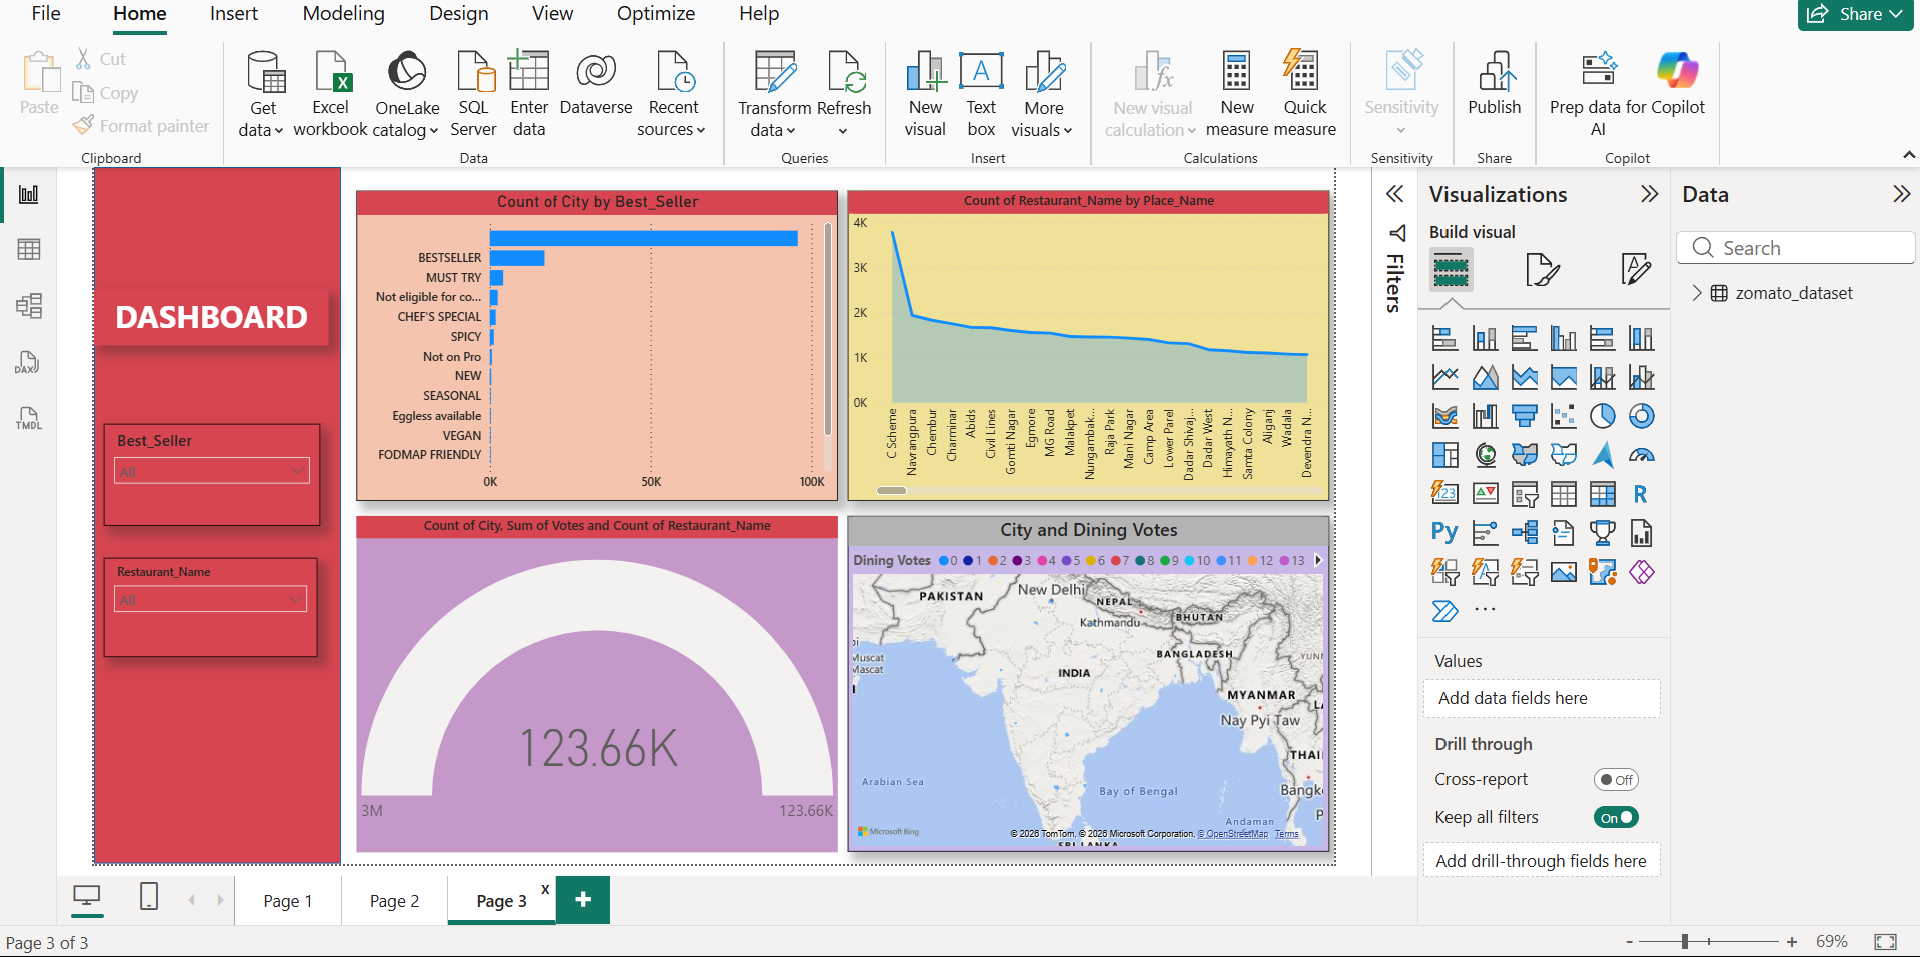

The dashboard page shown, as its layout file describes it:
{"tool":"powerbi","page":{"name":"Page 3","canvas":[1280,720],"ordinal":2},"visuals":[{"type":"shape","box":[0,0,255.2,719.3],"z":0},{"type":"textbox","box":[0,126.9,242.2,57.7],"z":1},{"type":"barChart","fields":{"Category":["zomato_dataset.Best_Seller"],"Y":["CountNonNull(zomato_dataset.City)"]},"box":[271,24.5,497.3,320],"z":2},{"type":"gauge","fields":{"Y":["CountNonNull(zomato_dataset.City)"],"MaxValue":["CountNonNull(zomato_dataset.Restaurant_Name)"],"MinValue":["Sum(zomato_dataset.Votes)"]},"box":[271,360.4,497.3,347.4],"z":3},{"type":"slicer","fields":{"Values":["zomato_dataset.Best_Seller"]},"box":[10.1,265.3,223.4,105.2],"z":4},{"type":"slicer","fields":{"Values":["zomato_dataset.Restaurant_Name"]},"box":[10.1,403.6,220.6,102.4],"z":5},{"type":"stackedAreaChart","fields":{"Category":["zomato_dataset.Place_Name"],"Y":["CountNonNull(zomato_dataset.Restaurant_Name)"]},"box":[778,25,497,320],"z":6},{"type":"filledMap","fields":{"Category":["zomato_dataset.City"],"Series":["zomato_dataset.Dining Votes"]},"box":[778,360,497,347],"z":7}]}

Visuals, with their boxes on the page's 1280x720 design canvas (x1, y1, x2, y2). These are canvas units, not pixel positions in the 1920x957 screenshot, which may show the page scaled, cropped or inside an application window:
shape: <bbox>0, 0, 255, 719</bbox>
textbox: <bbox>0, 127, 242, 185</bbox>
barChart - zomato_dataset.Best_Seller x CountNonNull(zomato_dataset.City): <bbox>271, 24, 768, 344</bbox>
gauge - CountNonNull(zomato_dataset.City) x CountNonNull(zomato_dataset.Restaurant_Name): <bbox>271, 360, 768, 708</bbox>
slicer - zomato_dataset.Best_Seller: <bbox>10, 265, 234, 370</bbox>
slicer - zomato_dataset.Restaurant_Name: <bbox>10, 404, 231, 506</bbox>
stackedAreaChart - zomato_dataset.Place_Name x CountNonNull(zomato_dataset.Restaurant_Name): <bbox>778, 25, 1275, 345</bbox>
filledMap - zomato_dataset.City x zomato_dataset.Dining Votes: <bbox>778, 360, 1275, 707</bbox>
